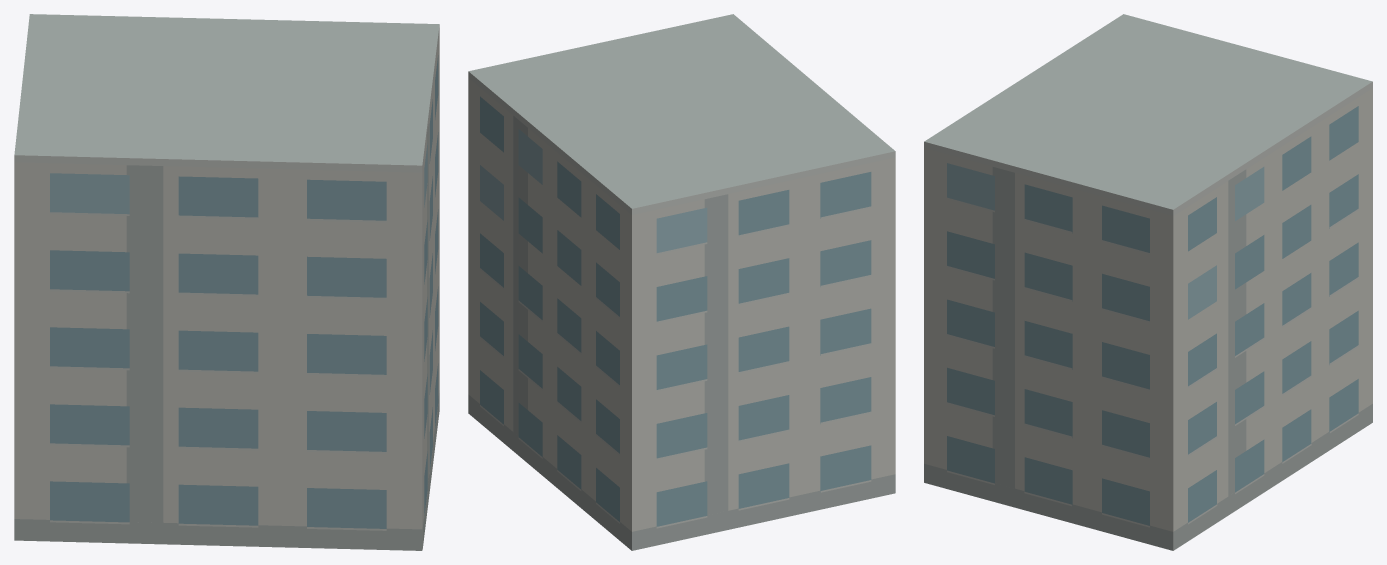
The model's file is survey-upis-32885159.glb.
3 renders of one model, left to right at view 1: azimuth 30°, elevation 25°; view 2: azimuth 150°, elevation 25°; view 3: azimuth 270°, elevation 25°, orthographic. The views are drawn at different scales.
Parts seen in each view (by area): view 1: survey-upis-32885159.tmp; view 2: survey-upis-32885159.tmp; view 3: survey-upis-32885159.tmp.
Boxes of the visible parts, x1,y1,x2,y2 form: survey-upis-32885159.tmp: (14, 14, 439, 550); survey-upis-32885159.tmp: (468, 14, 895, 550); survey-upis-32885159.tmp: (924, 14, 1372, 550).
Bounding box in the file's own units: 16.26 × 13.2 × 15.75.
